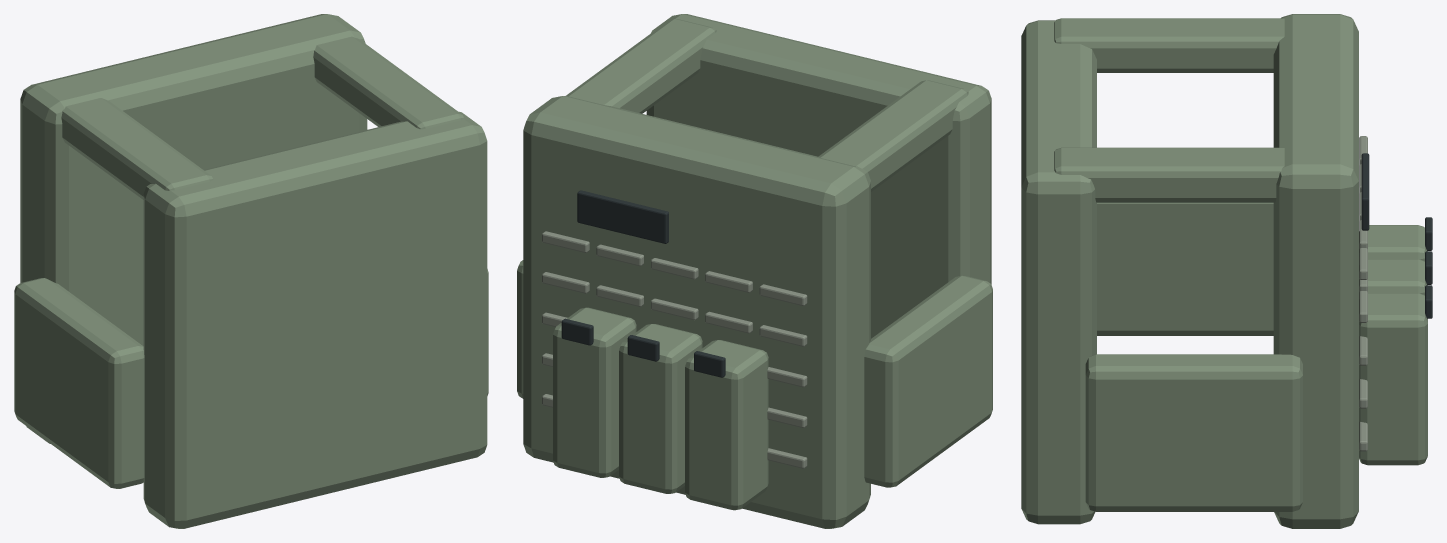
Rendered from body_armor_fiber_1a.glb.
3 views of the same model, side by side, from view 1: azimuth 30°, elevation 25°; view 2: azimuth 150°, elevation 25°; view 3: azimuth 270°, elevation 25° (orthographic). The views are drawn at different scales.
Parts seen in each view (by area): view 1: body_armor_fiber_1a; view 2: body_armor_fiber_1a; view 3: body_armor_fiber_1a.
Part boxes in pixels (left/top/right/bottom): body_armor_fiber_1a: left=14, top=14, right=488, bottom=528; body_armor_fiber_1a: left=517, top=14, right=992, bottom=528; body_armor_fiber_1a: left=1021, top=14, right=1432, bottom=528.
Bounding box in the file's own units: 0.49 × 0.425 × 0.435.
